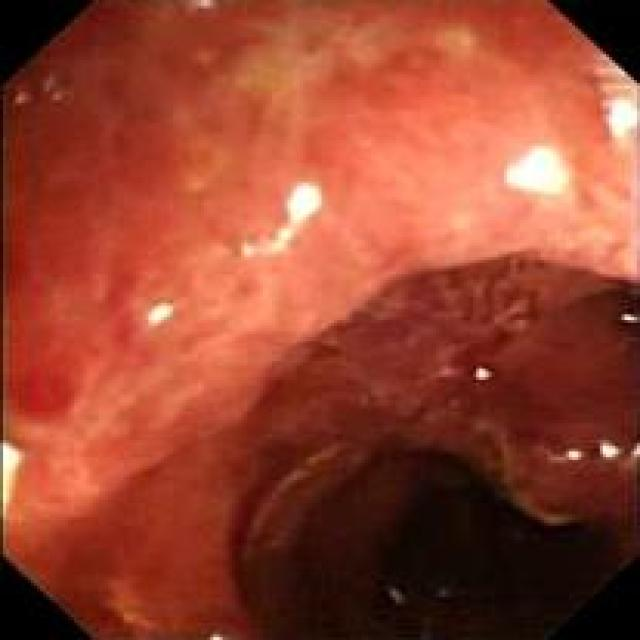color misalignment: (592, 52, 637, 140)
contrast: (302, 431, 631, 635)
specularity: (500, 143, 573, 198), (231, 223, 301, 260), (2, 438, 22, 543), (284, 178, 321, 229), (539, 440, 590, 473), (595, 438, 638, 476), (463, 355, 502, 392), (142, 300, 183, 331), (607, 97, 637, 138), (614, 305, 638, 329), (202, 628, 228, 637)
